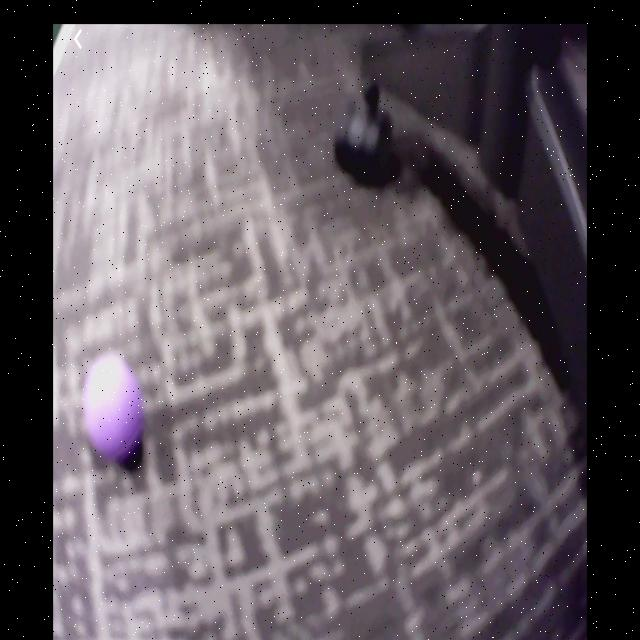ball: (87, 353, 145, 467)
